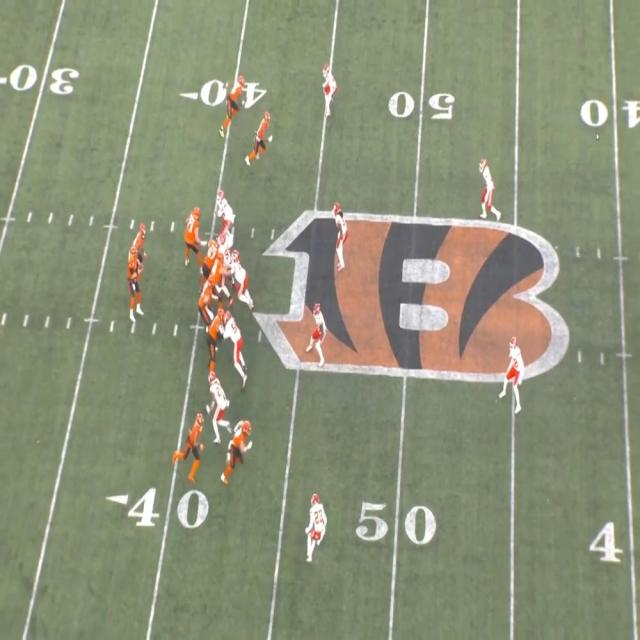db: (305, 493, 325, 559), (211, 374, 231, 432), (479, 159, 496, 217), (319, 65, 336, 114), (506, 341, 522, 389)
lb: (307, 300, 327, 358), (332, 198, 348, 268)
qb: (129, 256, 144, 320)
skill: (179, 409, 206, 478), (226, 420, 251, 478), (224, 78, 247, 127), (252, 110, 272, 160), (133, 223, 146, 252)
